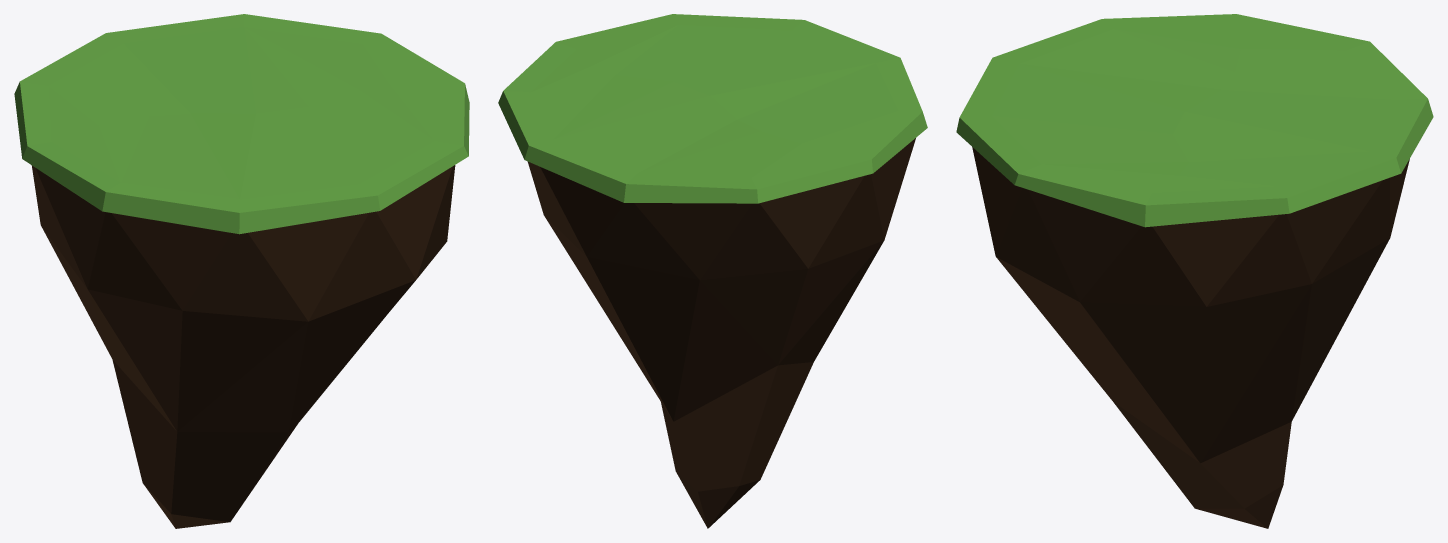
The model's file is island_1.fbx.
The picture shows the model from 3 angles, left to right: view 1: azimuth 30°, elevation 25°; view 2: azimuth 150°, elevation 25°; view 3: azimuth 270°, elevation 25°; orthographic projection. The views are drawn at different scales.
Visible parts, largest first — view 1: Icosphere; view 2: Icosphere; view 3: Icosphere.
Boxes of the visible parts, x1,y1,x2,y2 form: Icosphere: (14,14,469,528); Icosphere: (498,14,927,528); Icosphere: (956,14,1433,528).
Bounding box in the file's own units: 182 × 190 × 188.
